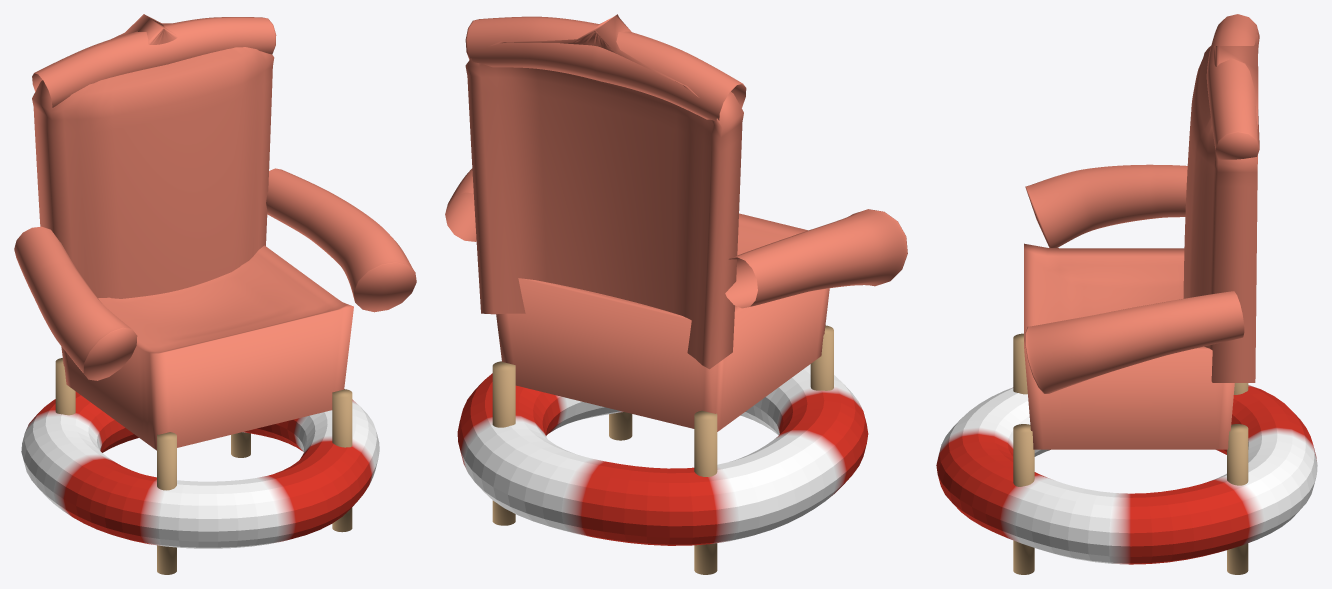
File: red-armchair-v4.glb
The picture shows the model from 3 angles, left to right: view 1: azimuth 30°, elevation 25°; view 2: azimuth 150°, elevation 25°; view 3: azimuth 270°, elevation 25°; orthographic projection. The views are drawn at different scales.
Parts seen in each view (by area): view 1: backrest, seat, life_ring, armrest_1.0, armrest_-1.0, top_roll, leg_-0.3_-0.3, leg_0.3_-0.3, leg_-0.3_0.3; view 2: backrest, life_ring, seat, top_roll, armrest_-1.0, leg_-0.3_0.3, leg_0.3_0.3, armrest_1.0, leg_-0.3_-0.3, leg_0.3_-0.3; view 3: life_ring, seat, backrest, armrest_1.0, armrest_-1.0, top_roll, leg_0.3_-0.3, leg_0.3_0.3, leg_-0.3_-0.3.
Part boxes in pixels (bbox=[...]): backrest: bbox=[32, 14, 274, 298]; seat: bbox=[61, 245, 353, 450]; life_ring: bbox=[21, 391, 379, 548]; armrest_1.0: bbox=[266, 168, 416, 312]; armrest_-1.0: bbox=[14, 226, 137, 380]; top_roll: bbox=[32, 17, 276, 107]; leg_-0.3_-0.3: bbox=[157, 432, 176, 574]; leg_0.3_-0.3: bbox=[332, 389, 352, 532]; leg_-0.3_0.3: bbox=[55, 358, 75, 415]; backrest: bbox=[465, 14, 743, 369]; life_ring: bbox=[457, 364, 868, 545]; seat: bbox=[496, 213, 829, 431]; top_roll: bbox=[465, 16, 746, 121]; armrest_-1.0: bbox=[725, 209, 907, 308]; leg_-0.3_0.3: bbox=[694, 410, 717, 574]; leg_0.3_0.3: bbox=[492, 361, 515, 525]; armrest_1.0: bbox=[445, 168, 476, 241]; leg_-0.3_-0.3: bbox=[810, 325, 833, 390]; leg_0.3_-0.3: bbox=[609, 412, 632, 440]; life_ring: bbox=[936, 385, 1317, 564]; seat: bbox=[1024, 243, 1234, 449]; backrest: bbox=[1183, 34, 1258, 382]; armrest_1.0: bbox=[1025, 291, 1244, 393]; armrest_-1.0: bbox=[1025, 164, 1187, 247]; top_roll: bbox=[1206, 14, 1259, 159]; leg_0.3_-0.3: bbox=[1013, 424, 1034, 574]; leg_0.3_0.3: bbox=[1227, 424, 1248, 574]; leg_-0.3_-0.3: bbox=[1013, 333, 1027, 394].
Bounding box in the file's own units: 1.16 × 1.48 × 1.07.
